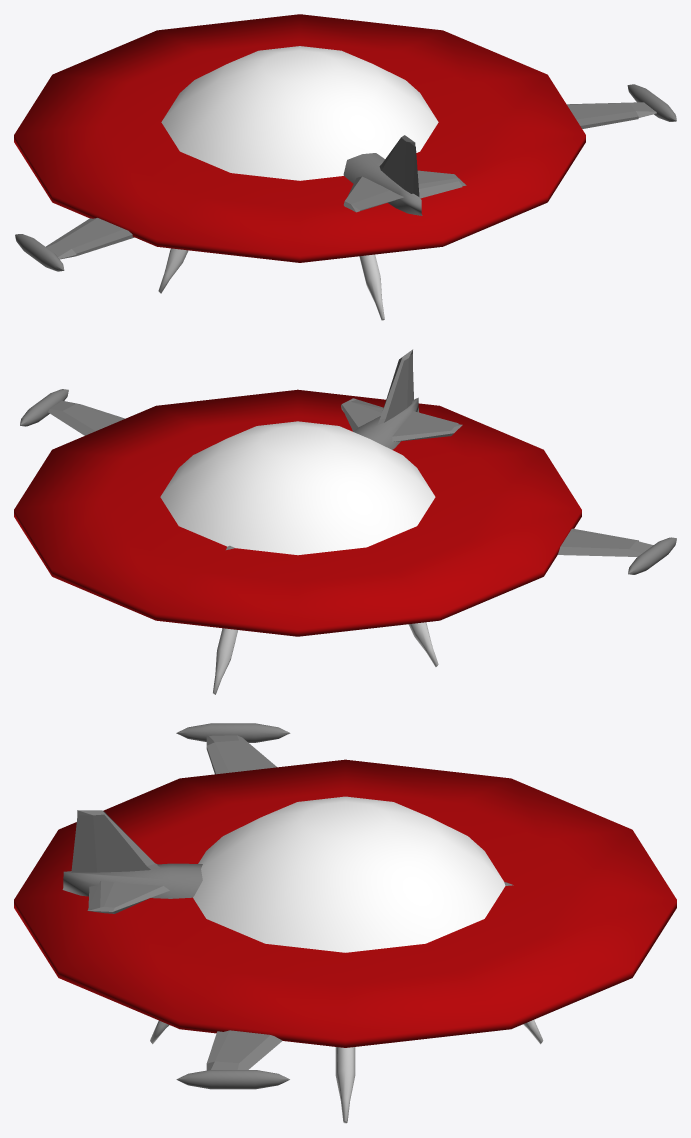
The model's file is SpaceInvaters[1].fbx.
3 views of the same model, one above another, from view 1: azimuth 30°, elevation 25°; view 2: azimuth 150°, elevation 25°; view 3: azimuth 270°, elevation 25° (orthographic). The views are drawn at different scales.
Parts seen in each view (by area): view 1: OVNI, Jato; view 2: OVNI, Jato; view 3: OVNI, Jato.
Part boxes in pixels (box(x1,y1,x2,y2)): OVNI: box(14, 14, 585, 320); Jato: box(15, 84, 676, 271); OVNI: box(14, 389, 581, 694); Jato: box(20, 349, 676, 574); OVNI: box(14, 759, 676, 1123); Jato: box(62, 723, 513, 1089).
Size of the model in its own units: 3124 by 962 by 2468.
